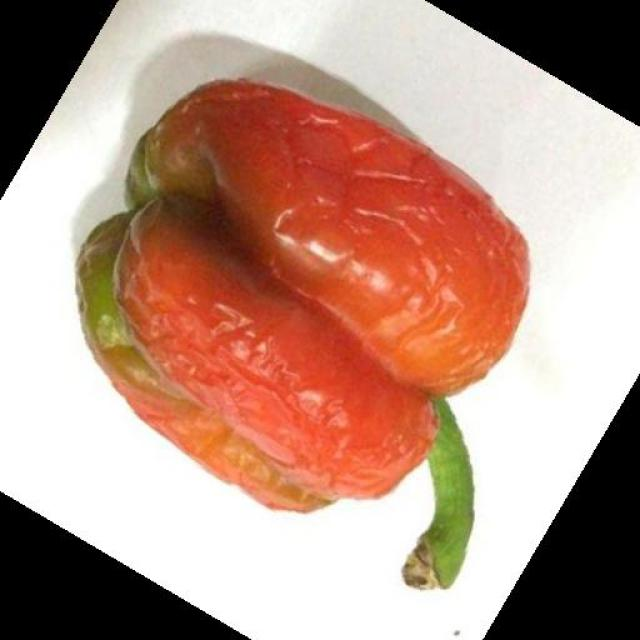Stale_Capsicum: (72, 79, 569, 576)
